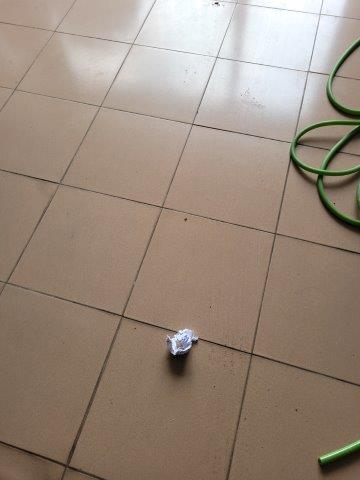kertas: (162, 329, 203, 358)
